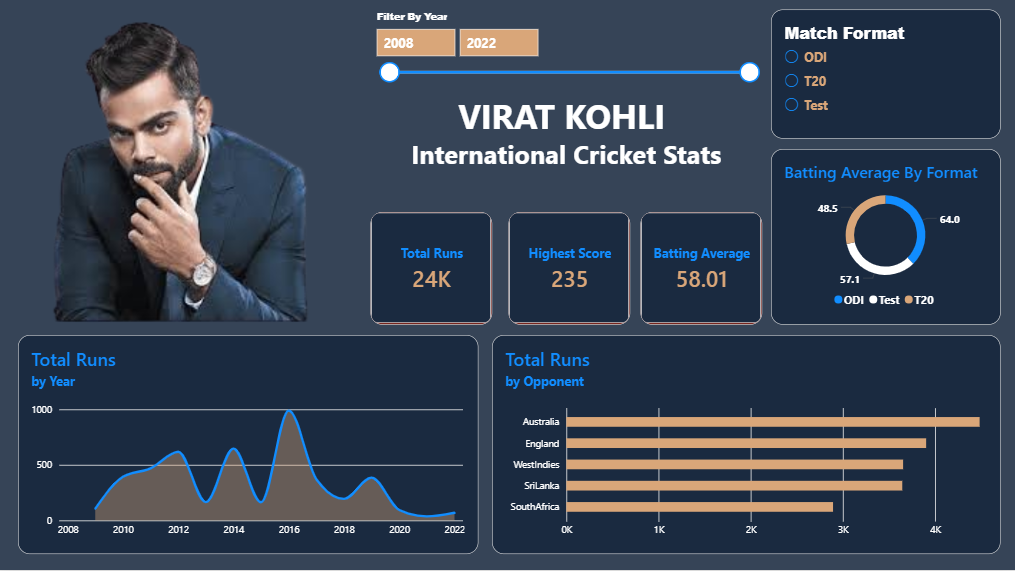

The page's visual inventory and layout, read from the dashboard file:
{"tool":"powerbi","page":{"name":"Page 1","canvas":[1280,720],"ordinal":0},"visuals":[{"type":"barChart","fields":{"Category":["Virat_Kohli_Stats.Opponent"],"Y":["Sum(Virat_Kohli_Stats.Runs)"]},"box":[619.8,423.3,640.6,275.9],"z":0},{"type":"donutChart","title":"Batting Average By Format","fields":{"Category":["Virat_Kohli_Stats.Match Format"],"Y":["Virat_Kohli_Stats.Batting Average"]},"box":[971.3,189,289.1,221.1],"z":1000},{"type":"areaChart","fields":{"Category":["Virat_Kohli_Stats.Year"],"Y":["Sum(Virat_Kohli_Stats.Runs)"]},"box":[22.7,423.3,580.2,275.9],"z":2000},{"type":"listSlicer","fields":{"Values":["Virat_Kohli_Stats.Match Format"]},"box":[971.3,13.2,289.1,162.5],"z":3000},{"type":"slicer","fields":{"Values":["Virat_Kohli_Stats.Year"]},"box":[464.5,12.7,494.7,95.4],"z":4000},{"type":"cardVisual","fields":{"Data":["Virat_Kohli_Stats.Total Runs"]},"box":[466.8,268.3,153.1,141.7],"z":5000},{"type":"cardVisual","fields":{"Data":["Virat_Kohli_Stats.Highest Score"]},"box":[640.6,268.3,153.1,141.7],"z":6000},{"type":"cardVisual","fields":{"Data":["Virat_Kohli_Stats.Batting Average"]},"box":[806.9,268.3,153.1,141.7],"z":9000},{"type":"image","box":[22.7,13.2,415.8,396.9],"z":9001},{"type":"textbox","box":[466.8,117.2,493.2,136.1],"z":9003}]}

Visuals, with their boxes in screenshot pixels (x1, y1, x2, y2), scaled from the page's 1280x720 canvas onto the 1015x571 screenshot:
barChart - Virat_Kohli_Stats.Opponent x Sum(Virat_Kohli_Stats.Runs): x1=491, y1=336, x2=999, y2=555
"Batting Average By Format" donutChart: x1=770, y1=150, x2=999, y2=325
areaChart - Virat_Kohli_Stats.Year x Sum(Virat_Kohli_Stats.Runs): x1=18, y1=336, x2=478, y2=555
listSlicer - Virat_Kohli_Stats.Match Format: x1=770, y1=10, x2=999, y2=139
slicer - Virat_Kohli_Stats.Year: x1=368, y1=10, x2=761, y2=86
cardVisual - Virat_Kohli_Stats.Total Runs: x1=370, y1=213, x2=492, y2=325
cardVisual - Virat_Kohli_Stats.Highest Score: x1=508, y1=213, x2=629, y2=325
cardVisual - Virat_Kohli_Stats.Batting Average: x1=640, y1=213, x2=761, y2=325
image: x1=18, y1=10, x2=348, y2=325
textbox: x1=370, y1=93, x2=761, y2=201
